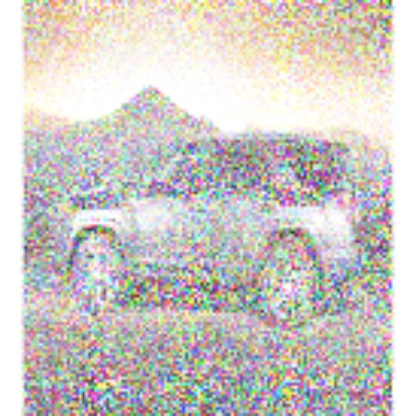Vehicle: (50, 132, 366, 336)
